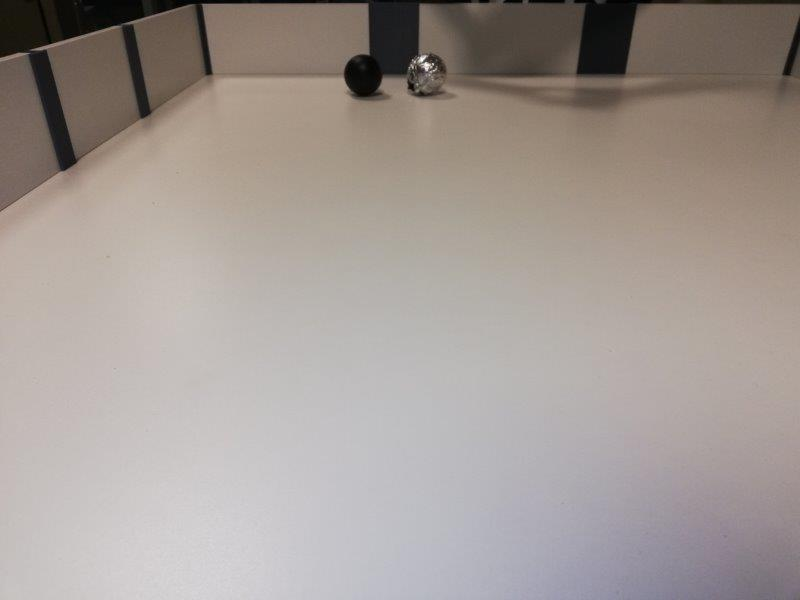bianca: (406, 52, 446, 96)
nera: (343, 53, 383, 96)
